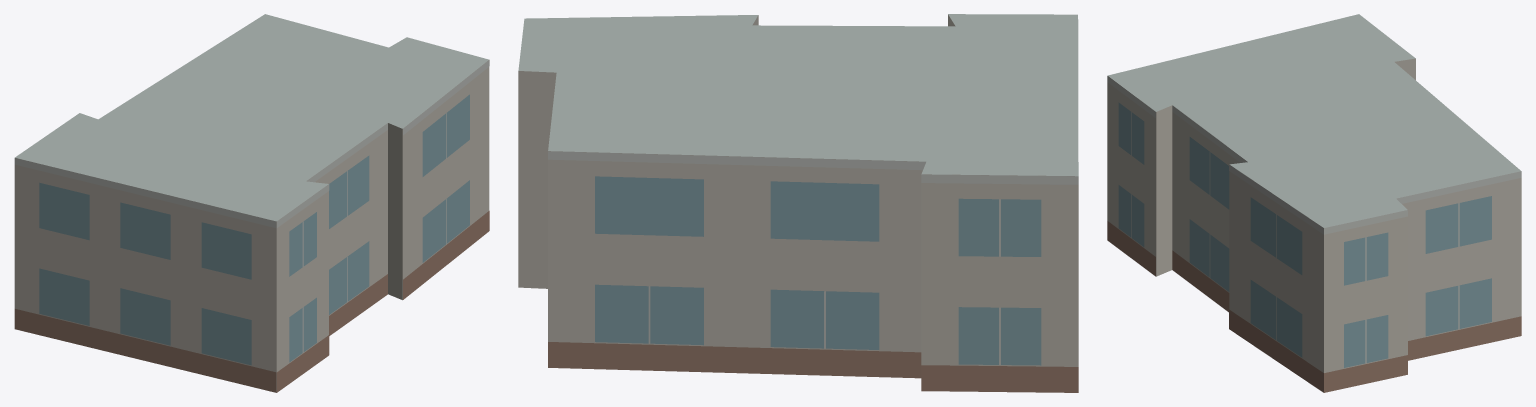
File: survey-upis-32909066.glb
3 views of the same model, side by side, from view 1: azimuth 30°, elevation 25°; view 2: azimuth 150°, elevation 25°; view 3: azimuth 270°, elevation 25° (orthographic). The views are drawn at different scales.
Visible parts, largest first — view 1: survey-upis-32909066.tmp; view 2: survey-upis-32909066.tmp; view 3: survey-upis-32909066.tmp.
Part boxes in pixels (x1,y1,x2,y2): survey-upis-32909066.tmp: (14, 14, 489, 392); survey-upis-32909066.tmp: (518, 14, 1078, 392); survey-upis-32909066.tmp: (1107, 14, 1521, 392).
Size of the model in its own units: 17.01 by 6.1 by 13.91.
